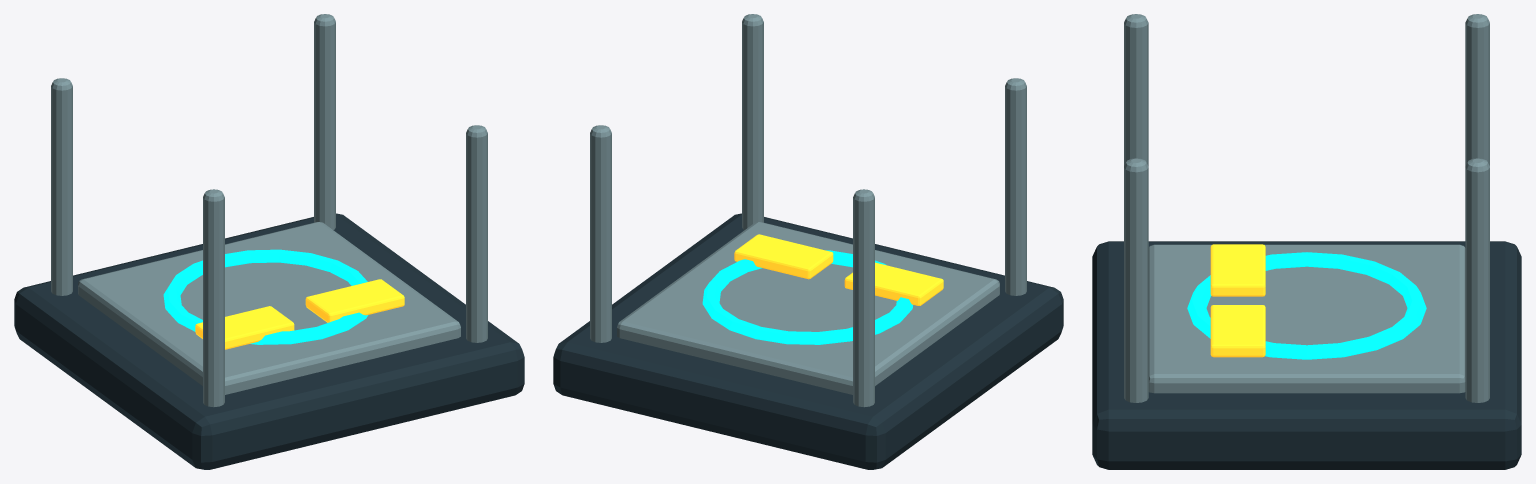
The model's file is Elevator.glb.
3 renders of one model, left to right at view 1: azimuth 30°, elevation 25°; view 2: azimuth 150°, elevation 25°; view 3: azimuth 270°, elevation 25°, orthographic. The views are drawn at different scales.
Visible parts, largest first — view 1: Elevator_Platform, Elevator_Inner, Elevator_Glow, Elevator_Rail.001, Elevator_Rail.002, Elevator_Rail, Elevator_Rail.003, Elevator_Arrow_0.26, Elevator_Arrow_-0.26; view 2: Elevator_Platform, Elevator_Inner, Elevator_Rail, Elevator_Rail.003, Elevator_Rail.001, Elevator_Rail.002, Elevator_Glow, Elevator_Arrow_0.26, Elevator_Arrow_-0.26; view 3: Elevator_Platform, Elevator_Inner, Elevator_Glow, Elevator_Rail.002, Elevator_Rail.003, Elevator_Rail, Elevator_Rail.001, Elevator_Arrow_0.26, Elevator_Arrow_-0.26.
Part boxes in pixels (x1,y1,x2,y2): Elevator_Platform: [14, 213, 524, 469]; Elevator_Inner: [78, 222, 460, 394]; Elevator_Glow: [163, 249, 368, 344]; Elevator_Rail.001: [51, 78, 72, 295]; Elevator_Rail.002: [466, 125, 487, 342]; Elevator_Rail: [203, 189, 224, 407]; Elevator_Rail.003: [314, 14, 335, 229]; Elevator_Arrow_0.26: [305, 279, 404, 322]; Elevator_Arrow_-0.26: [195, 306, 294, 349]; Elevator_Platform: [553, 213, 1063, 469]; Elevator_Inner: [617, 222, 999, 394]; Elevator_Rail: [1005, 78, 1026, 295]; Elevator_Rail.003: [590, 125, 611, 342]; Elevator_Rail.001: [853, 189, 874, 407]; Elevator_Rail.002: [742, 14, 763, 229]; Elevator_Glow: [702, 250, 912, 344]; Elevator_Arrow_0.26: [734, 234, 833, 279]; Elevator_Arrow_-0.26: [844, 262, 943, 305]; Elevator_Platform: [1092, 241, 1521, 469]; Elevator_Inner: [1148, 244, 1465, 393]; Elevator_Glow: [1187, 252, 1426, 359]; Elevator_Rail.002: [1124, 158, 1148, 402]; Elevator_Rail.003: [1465, 158, 1489, 402]; Elevator_Rail: [1124, 14, 1148, 166]; Elevator_Rail.001: [1465, 14, 1489, 166]; Elevator_Arrow_0.26: [1210, 305, 1265, 357]; Elevator_Arrow_-0.26: [1210, 244, 1265, 296].
Size of the model in its own units: 1.56 by 1.19 by 1.56.
